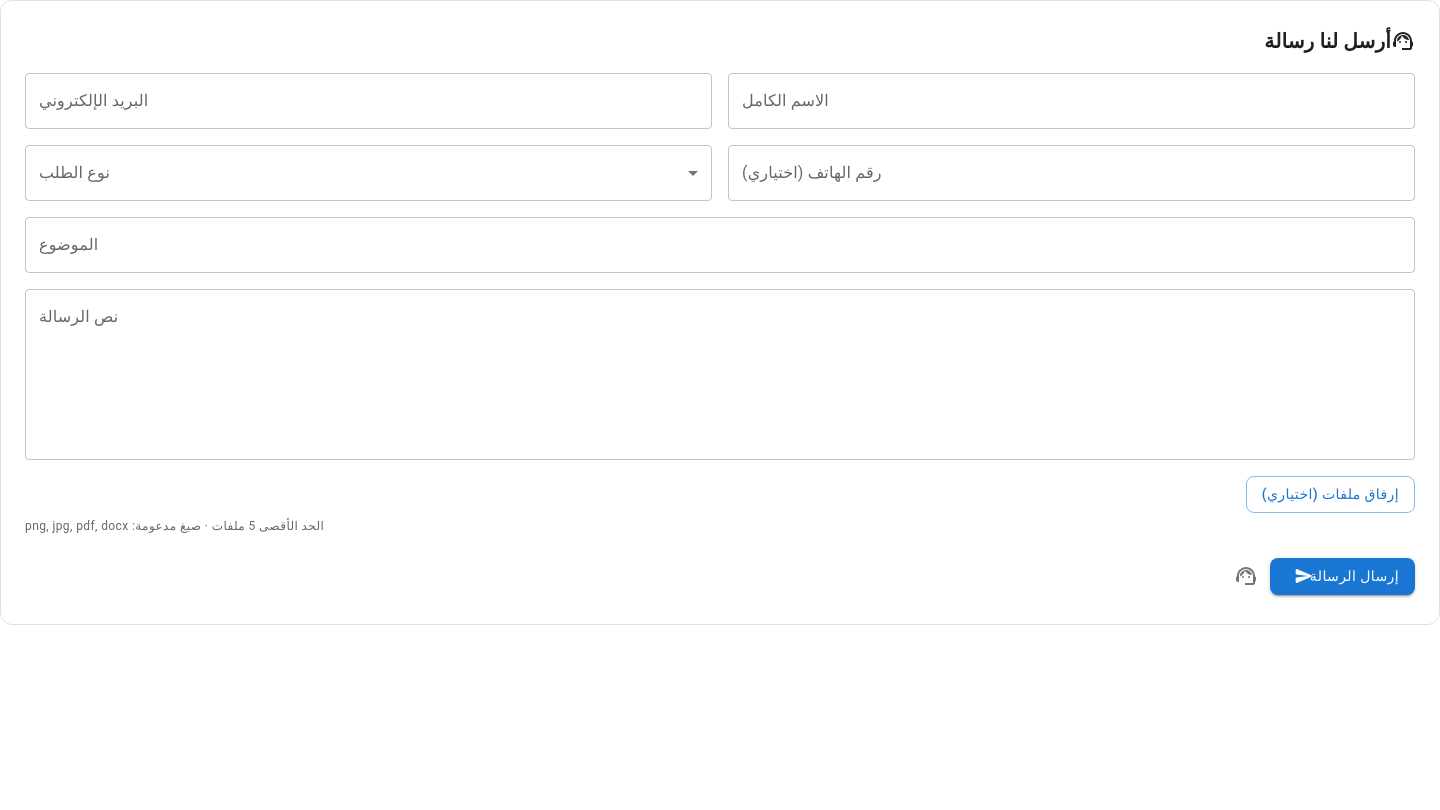
Test: ContactForm › يجب أن يعرض قائمة المواضيع المطلوبة
Press the mouse on the dropdown named "نوع الطلب" at (368, 173), box top-left (25, 145), bottom-right (712, 201)
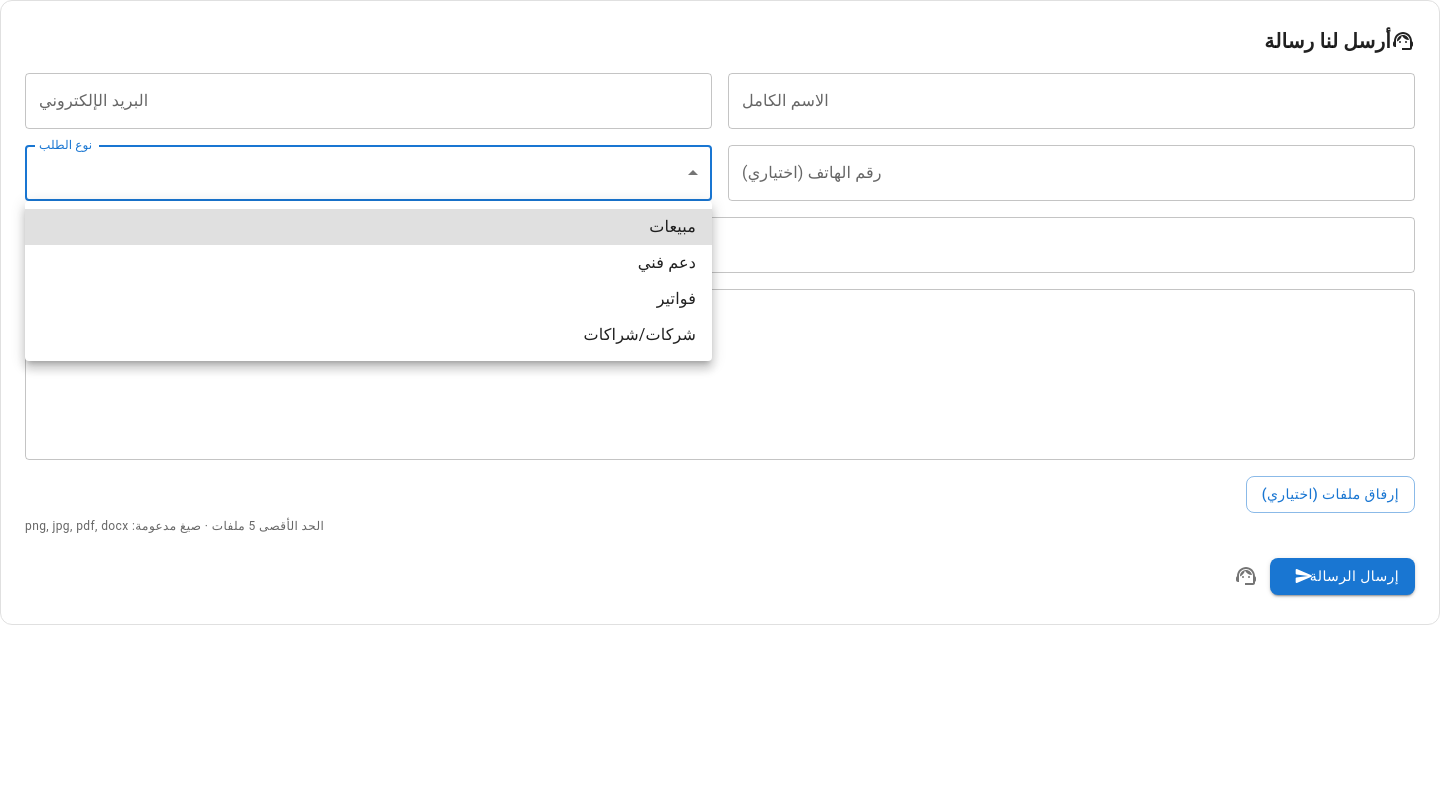
Check: the option "مبيعات" is shown, box top-left (25, 209), bottom-right (712, 245)
Check: the option "دعم فني" is shown, box top-left (638, 253), bottom-right (696, 272)
Check: the option "فواتير" is shown, box top-left (657, 289), bottom-right (696, 308)
